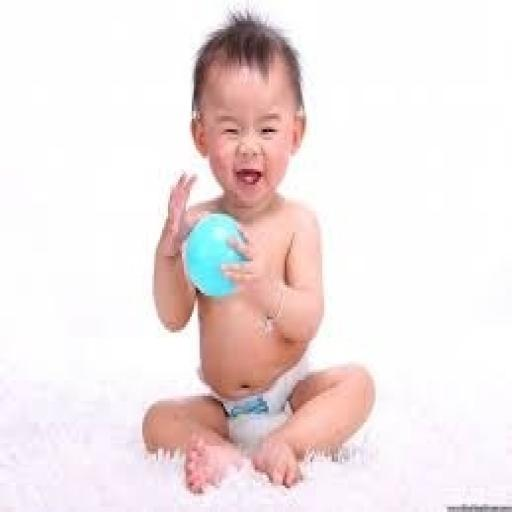laughing: (134, 5, 382, 499)
